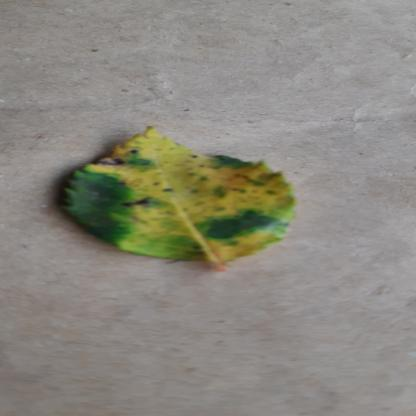black-spot: (51, 125, 302, 270)
